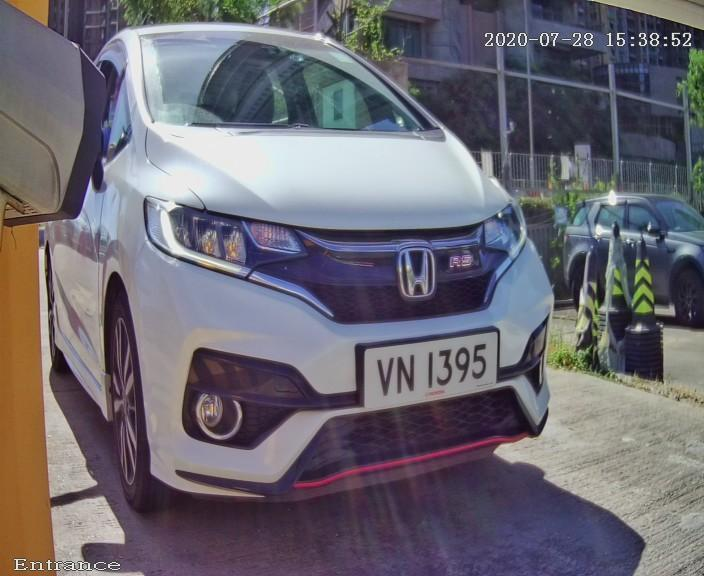privatecar: (45, 21, 613, 556)
